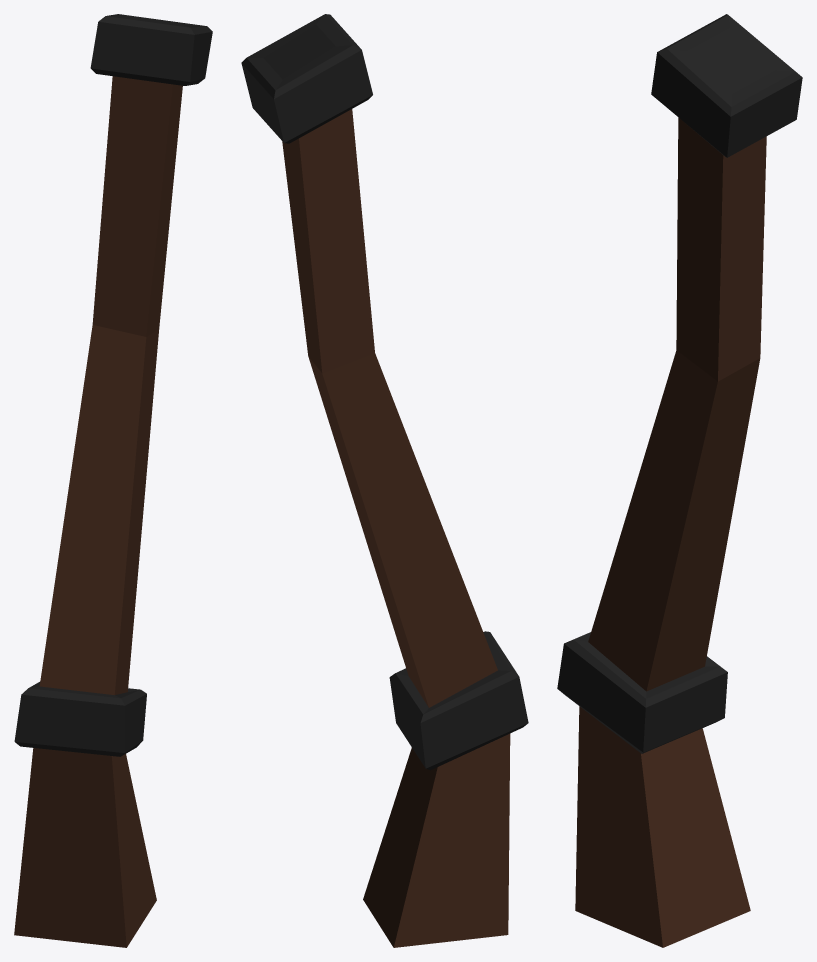
Rendered from WoodenBeams_03.fbx.
3 views of the same model, side by side, from view 1: azimuth 30°, elevation 25°; view 2: azimuth 150°, elevation 25°; view 3: azimuth 270°, elevation 25° (orthographic). The views are drawn at different scales.
Visible parts, largest first — view 1: WoodenBeams_03; view 2: WoodenBeams_03; view 3: WoodenBeams_03.
Boxes of the visible parts, box(x1,y1,x2,y2) form: WoodenBeams_03: box(14, 14, 212, 947); WoodenBeams_03: box(241, 14, 528, 947); WoodenBeams_03: box(557, 14, 802, 947).
Bounding box in the file's own units: 1.43 × 1.19 × 4.92.
